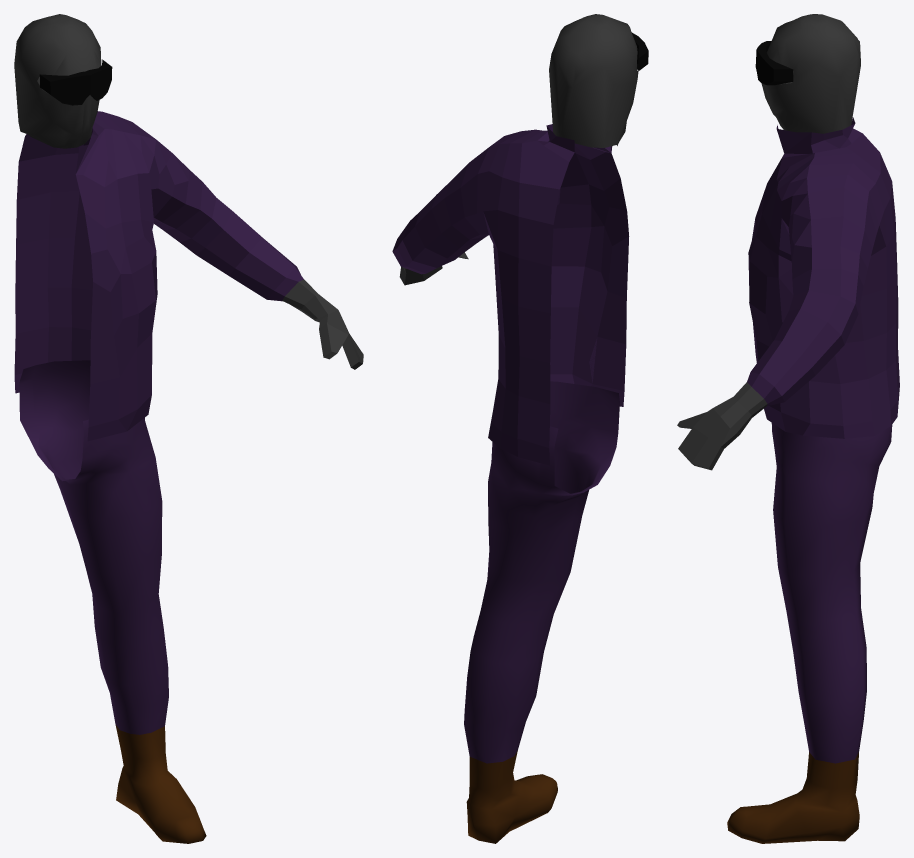
Rendered from enemy_high_poly.glb.
3 renders of one model, left to right at view 1: azimuth 30°, elevation 25°; view 2: azimuth 150°, elevation 25°; view 3: azimuth 270°, elevation 25°, orthographic. The views are drawn at different scales.
Visible parts, largest first — view 1: torso, legs, head, boots, hands, glasses; view 2: torso, legs, head, boots; view 3: torso, legs, head, boots, hands, glasses.
Part boxes in pixels (x1,y1,x2,y2): torso: [14, 111, 303, 441]; legs: [19, 360, 168, 734]; head: [14, 14, 101, 148]; boots: [115, 725, 206, 843]; hands: [282, 279, 363, 369]; glasses: [39, 59, 112, 105]; torso: [392, 124, 629, 465]; legs: [464, 381, 619, 763]; head: [549, 14, 638, 147]; boots: [466, 750, 557, 843]; torso: [747, 117, 899, 438]; legs: [771, 423, 892, 763]; head: [761, 14, 860, 133]; boots: [727, 752, 859, 843]; hands: [677, 382, 767, 470]; glasses: [755, 41, 793, 85].
Size of the model in its own units: 0.663 by 1.83 by 0.4764.
